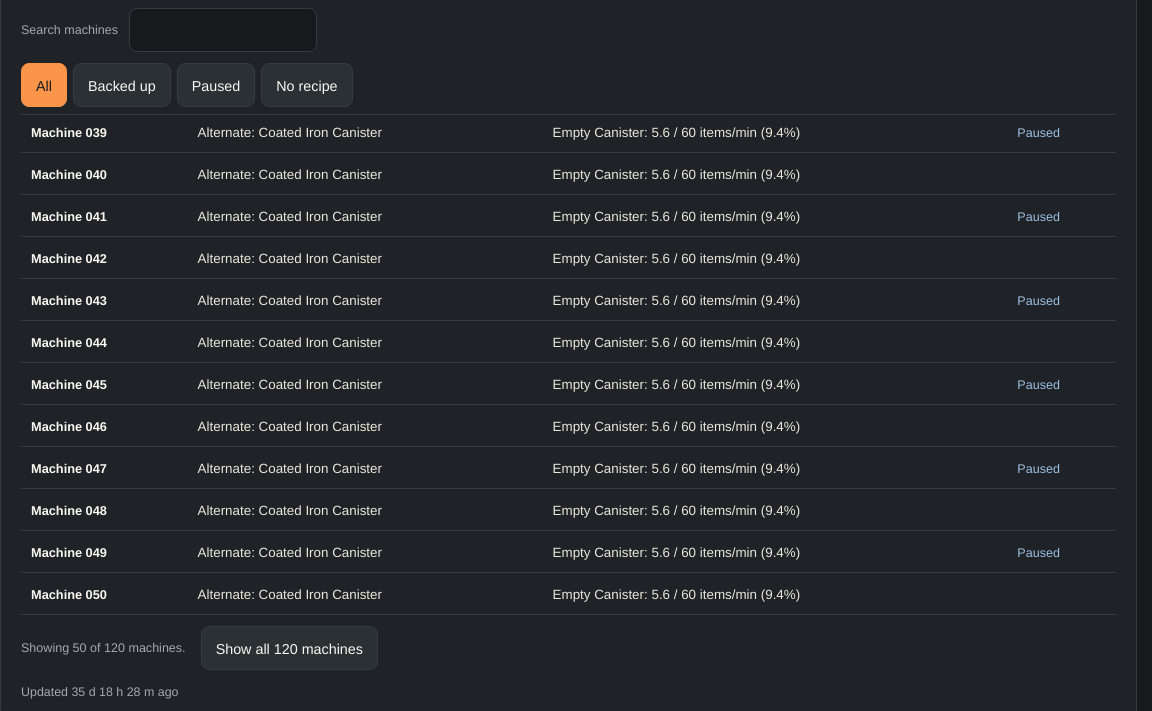
Scenario: FactoryPanel row cap (ADR-0062 F.5) › caps again when the search changes
(page scrolled)
Click the button "Show all 120 machines" at coordinates (289, 648), box [201,626,378,670]
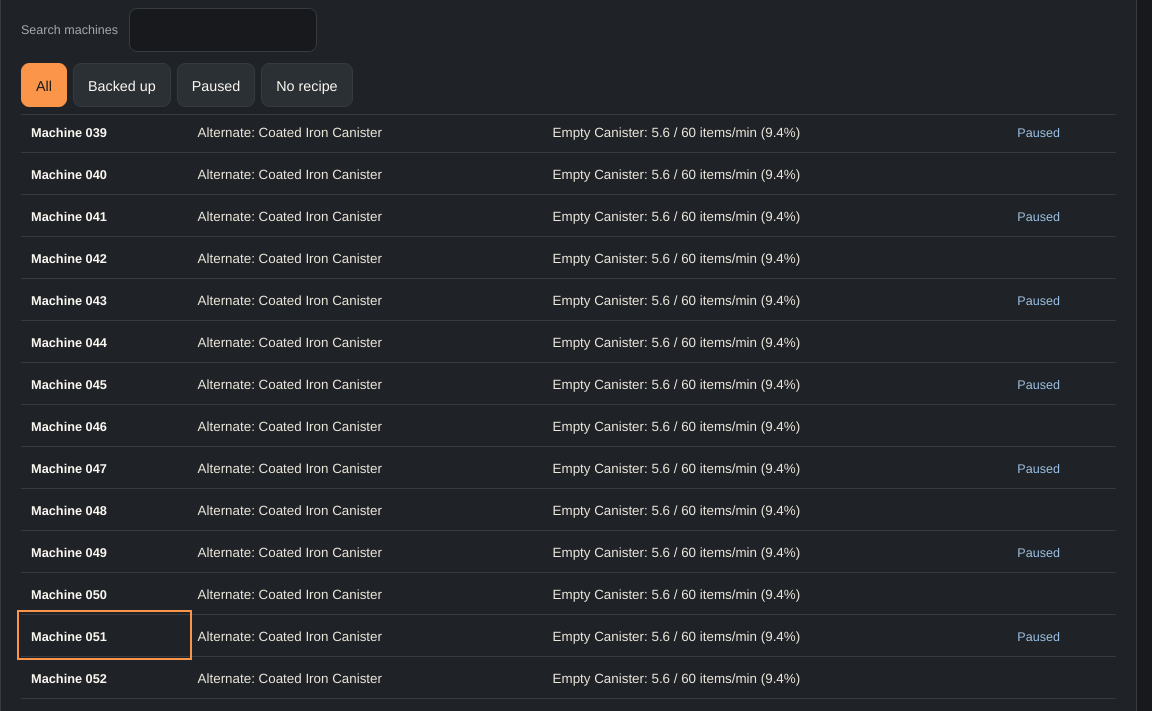
Type "Machine" into the search field labelled "Search machines" at coordinates (223, 30), box [129,8,317,52]
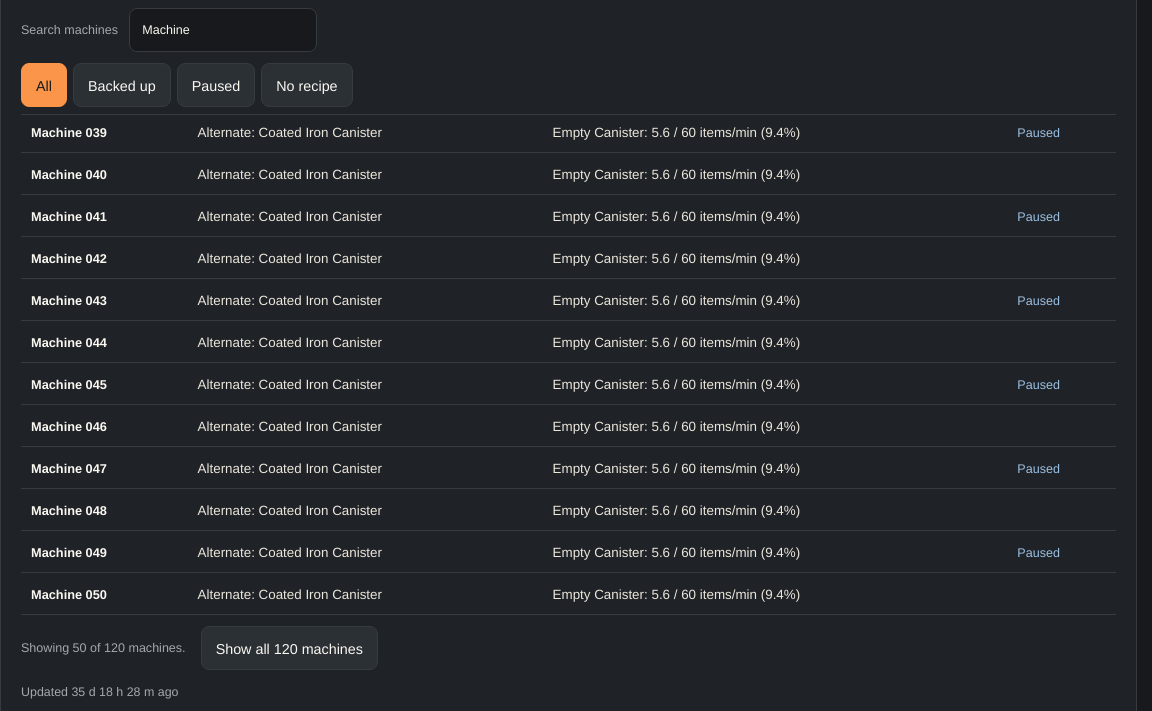
expect the message reads "Showing 50 of 120 machines.": met, box [21,639,186,655]
